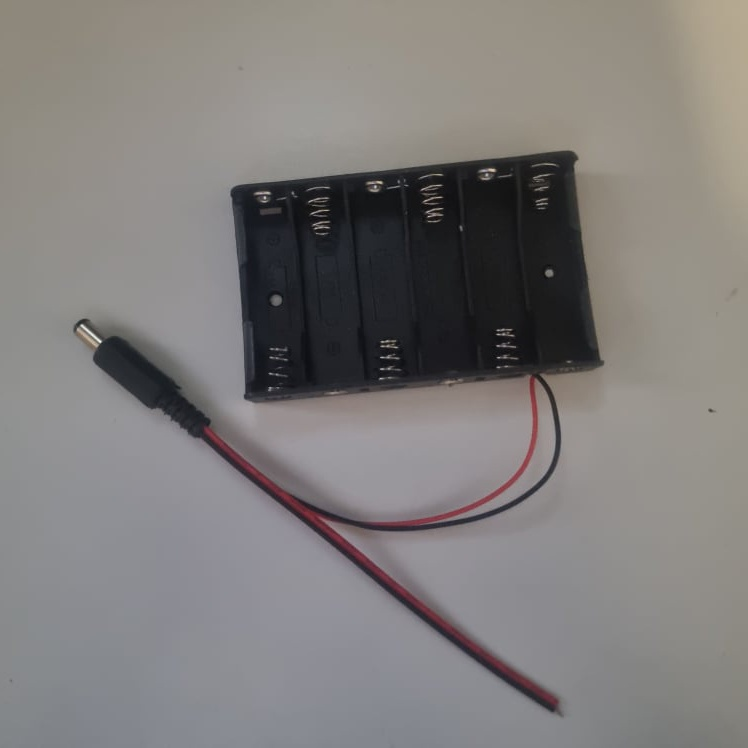BATTERY BOX: (229, 149, 611, 406)
